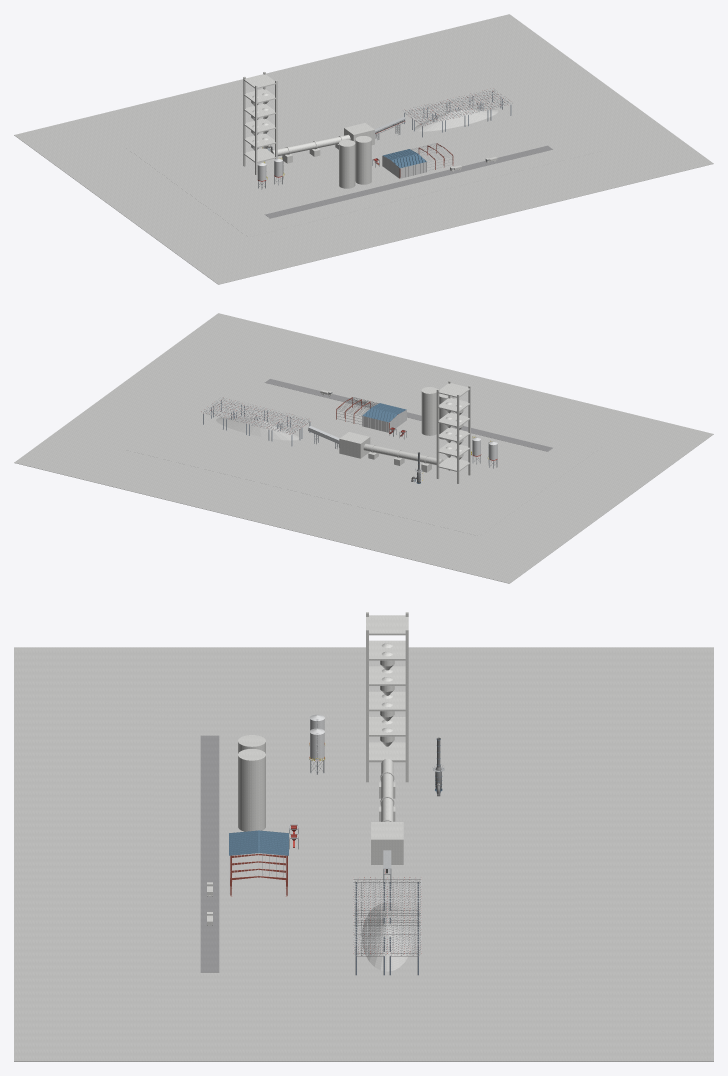
The model's file is plant-cement.glb.
3 renders of one model, top to bottom at view 1: azimuth 30°, elevation 25°; view 2: azimuth 150°, elevation 25°; view 3: azimuth 270°, elevation 25°, orthographic. The views are drawn at different scales.
Visible parts, largest first — view 1: ENV_Grass, ENV_Ground, ENV_Preheater, ENV_Road, ENV_CementSilos, ENV_ClinkerPile, ENV_Kiln, WallCladding, RoofSheeting; view 2: ENV_Grass, ENV_Ground, ENV_Preheater, ENV_Road, ENV_ClinkerPile, ENV_CementSilos, ENV_Cooler, ENV_Kiln, WallCladding, RoofSheeting; view 3: ENV_Grass, ENV_Ground, ENV_Preheater, ENV_Road, ENV_ClinkerPile, ENV_CementSilos, RoofSheeting, ENV_Cooler, ENV_Cyclones, ENV_Kiln.
Part boxes in pixels (x1,y1,x2,y2): ENV_Grass: (14,14,713,284); ENV_Ground: (126,61,601,237); ENV_Preheater: (243,72,277,174); ENV_Road: (265,145,552,218); ENV_CementSilos: (339,136,371,188); ENV_ClinkerPile: (414,108,498,131); ENV_Kiln: (270,134,350,156); WallCladding: (382,155,426,178); RoofSheeting: (383,149,426,168); ENV_Grass: (14,313,713,583); ENV_Ground: (126,360,601,536); ENV_Preheater: (436,381,470,483); ENV_Road: (265,379,552,451); ENV_ClinkerPile: (216,417,299,440); ENV_CementSilos: (421,387,454,439); ENV_Cooler: (339,432,370,458); ENV_Kiln: (363,443,443,465); WallCladding: (362,410,406,432); RoofSheeting: (362,403,406,422); ENV_Grass: (14,647,713,1061); ENV_Ground: (154,706,573,1002); ENV_Preheater: (366,612,408,782); ENV_Road: (200,735,219,972); ENV_ClinkerPile: (361,902,412,971); ENV_CementSilos: (238,735,265,831); RoofSheeting: (229,830,288,855); ENV_Cooler: (371,822,403,864); ENV_Cyclones: (380,643,394,746); ENV_Kiln: (381,759,393,821).
Bounding box in the file's own units: 420 × 72.28 × 300.
Materials: 44 (42 with a texture image).
